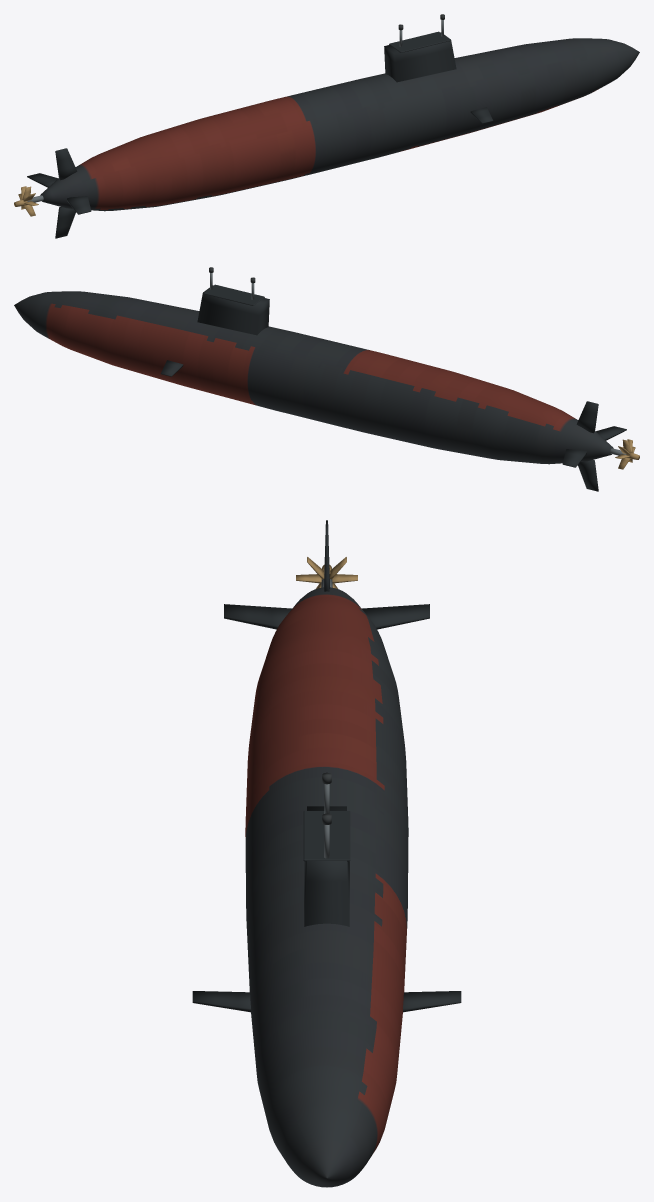
Rendered from UK_SSN_Swiftsure.glb.
The picture shows the model from 3 angles, top to bottom: view 1: azimuth 30°, elevation 25°; view 2: azimuth 150°, elevation 25°; view 3: azimuth 270°, elevation 25°; orthographic projection. The views are drawn at different scales.
Visible parts, largest first — view 1: UK_SSN_Swiftsure_LOD0; view 2: UK_SSN_Swiftsure_LOD0; view 3: UK_SSN_Swiftsure_LOD0.
Part boxes in pixels (x1=…): UK_SSN_Swiftsure_LOD0: x1=14, y1=14, x2=639, y2=238; UK_SSN_Swiftsure_LOD0: x1=14, y1=267, x2=639, y2=491; UK_SSN_Swiftsure_LOD0: x1=192, y1=520, x2=461, y2=1187.
Size of the model in its own units: 86.65 by 17.07 by 16.15.
6 materials, 1 textured.
